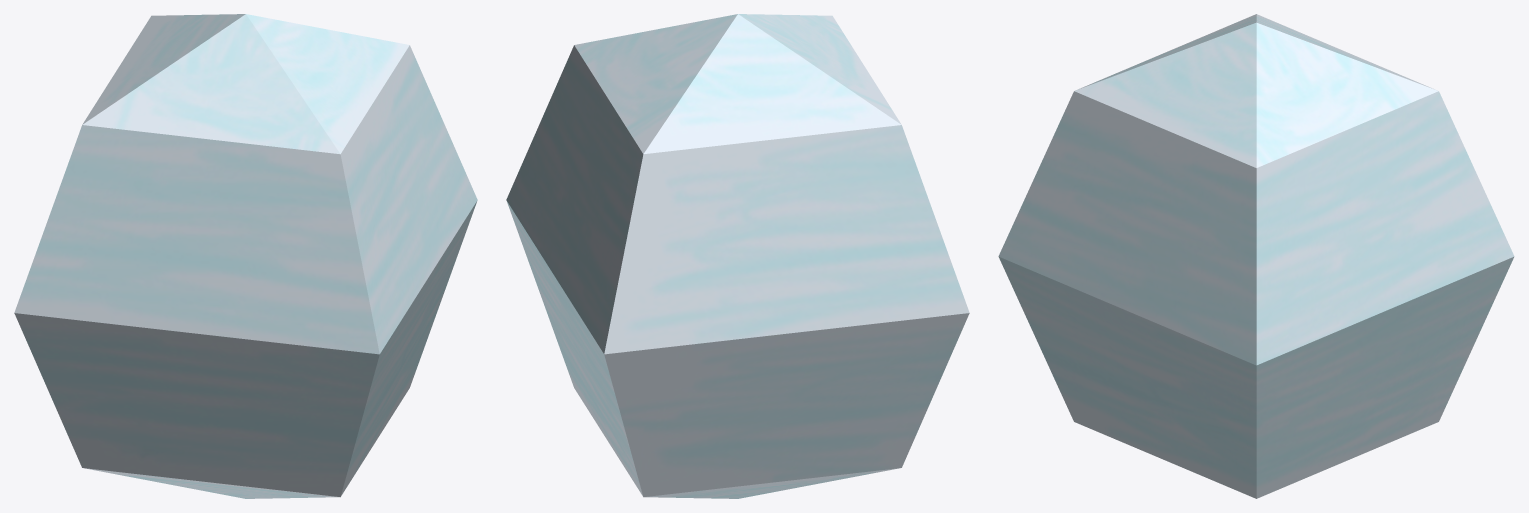
Rendered from Snowball.fbx.
3 views of the same model, side by side, from view 1: azimuth 30°, elevation 25°; view 2: azimuth 150°, elevation 25°; view 3: azimuth 270°, elevation 25° (orthographic). The views are drawn at different scales.
Parts seen in each view (by area): view 1: pSphere1; view 2: pSphere1; view 3: pSphere1.
Boxes of the visible parts, <box> form: pSphere1: <box>14,14,477,498</box>; pSphere1: <box>506,14,969,498</box>; pSphere1: <box>998,14,1514,498</box>.
Size of the model in its own units: 15 by 15 by 15.
